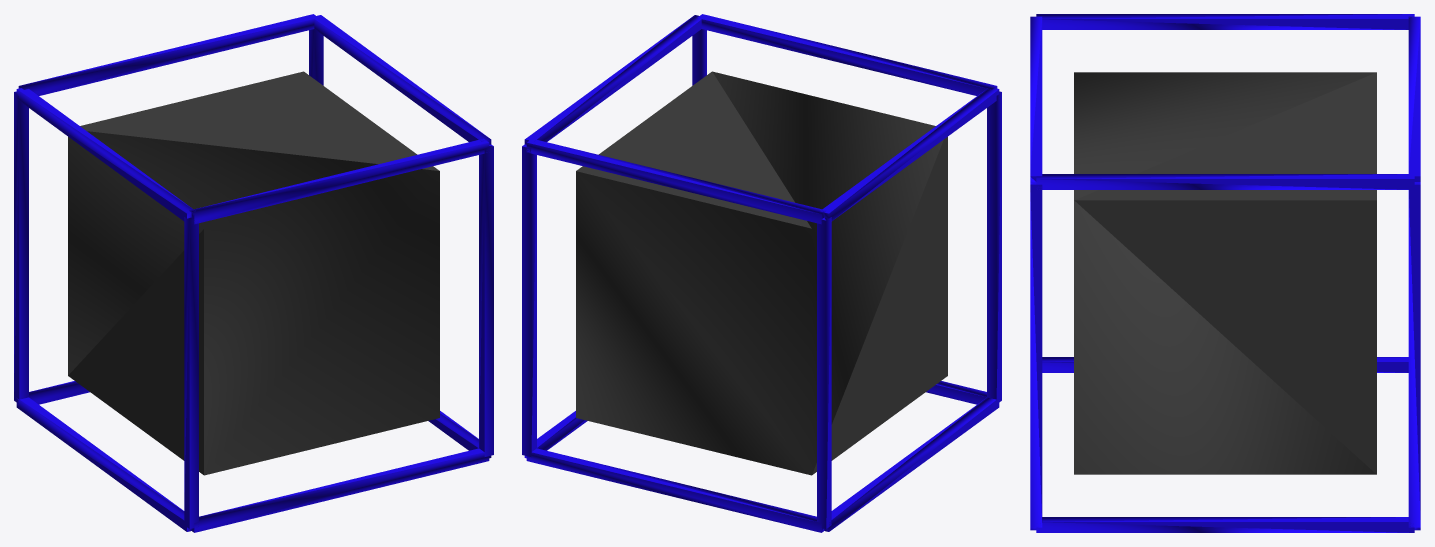
Rendered from Boss.obj.
3 renders of one model, left to right at view 1: azimuth 30°, elevation 25°; view 2: azimuth 150°, elevation 25°; view 3: azimuth 270°, elevation 25°, orthographic. The views are drawn at different scales.
Parts seen in each view (by area): view 1: Body_Cube, Frame_Edges; view 2: Body_Cube, Frame_Edges; view 3: Body_Cube, Frame_Edges.
Boxes of the visible parts, box(x1,y1,x2,y2) form: Body_Cube: box(68, 71, 439, 475); Frame_Edges: box(14, 14, 493, 532); Body_Cube: box(576, 71, 947, 475); Frame_Edges: box(522, 14, 1001, 532); Body_Cube: box(1074, 72, 1376, 474); Frame_Edges: box(1030, 14, 1420, 532).
Bounding box in the file's own units: 2.58 × 2.58 × 2.58.
